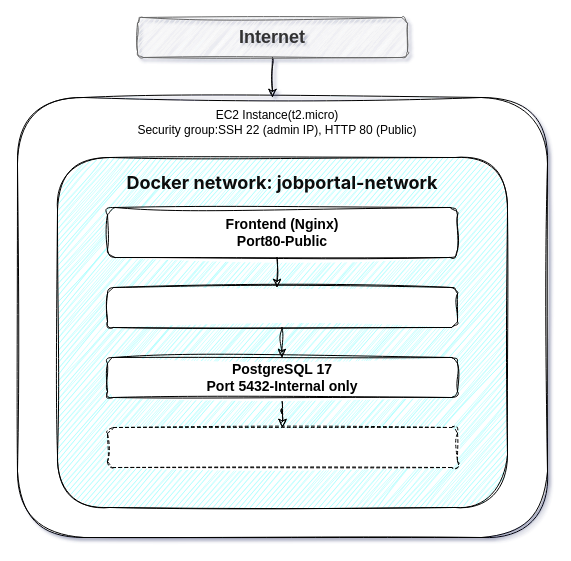
The diagram is 571 pixels wide and 561 high, and some of its shapes have lost their labels. The shapes that lost their labels are listed below. From the top down, each one's centre as x and y in pixels, then its label:
At point 282,307: "Backend(Express) Port 500-Internal only".
At point 282,447: "Named Volume:Postgres data(persists only)".
